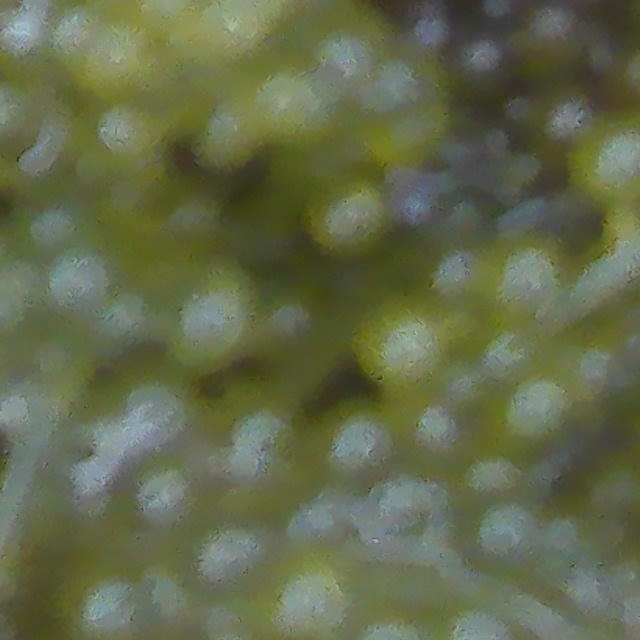SeaGrape: (160, 254, 268, 375), (350, 289, 459, 397), (259, 543, 362, 638), (305, 174, 393, 263), (315, 398, 398, 483), (566, 114, 640, 207), (195, 516, 274, 594), (500, 372, 576, 448), (42, 244, 118, 317), (94, 97, 168, 171), (472, 499, 542, 568), (397, 399, 465, 466), (476, 313, 543, 380), (448, 17, 497, 91)
